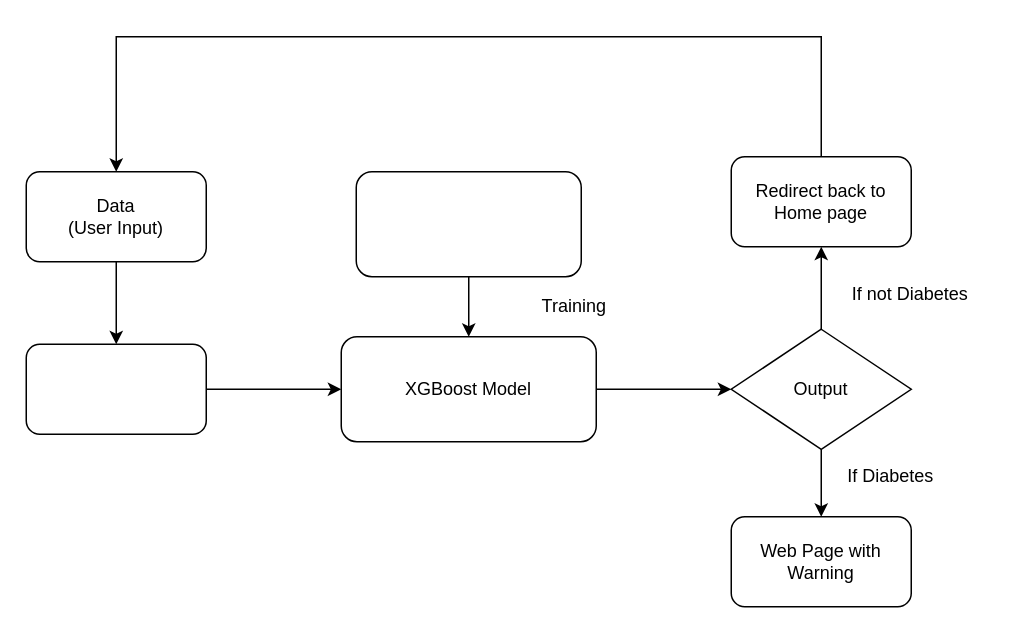
The diagram is 1011 pixels wide and 633 high, and some of its shapes have lost their labels. Each missing label, with the centre of its shape:
Data for Diabetes(PIMA): the point at 468,223
Form (HTML): the point at 115,388
